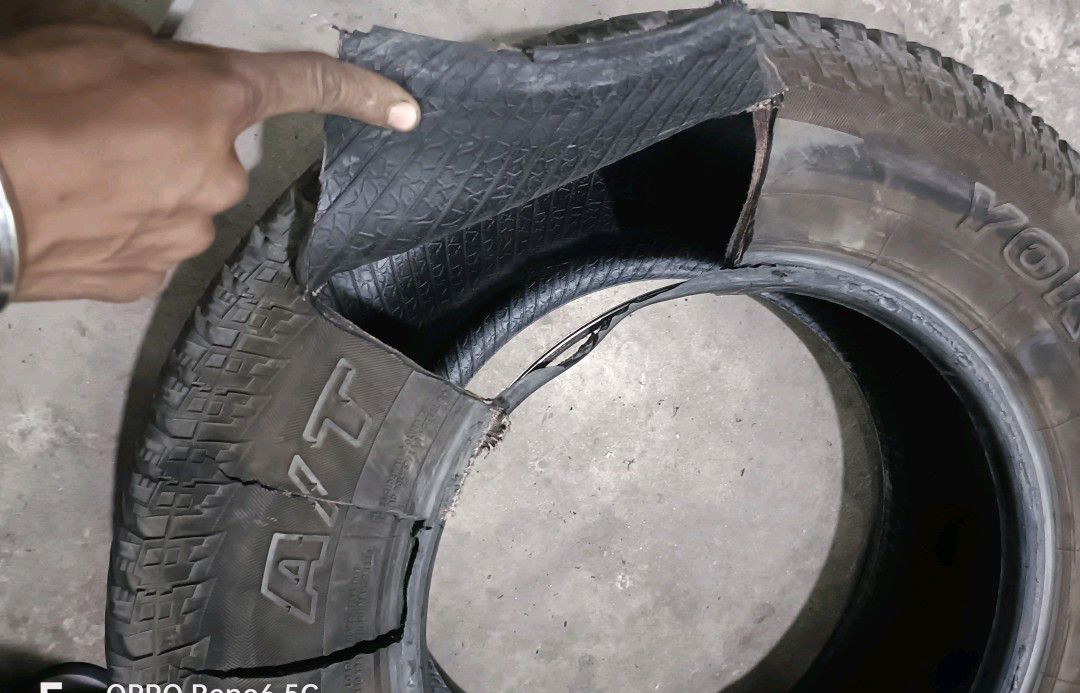bead_damage: (272, 0, 804, 457), (147, 432, 469, 683)
